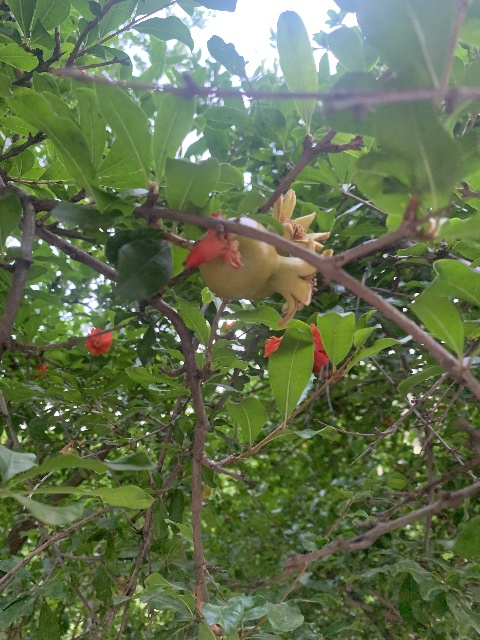flower: (84, 327, 112, 355)
mid-growth: (199, 217, 333, 328)
